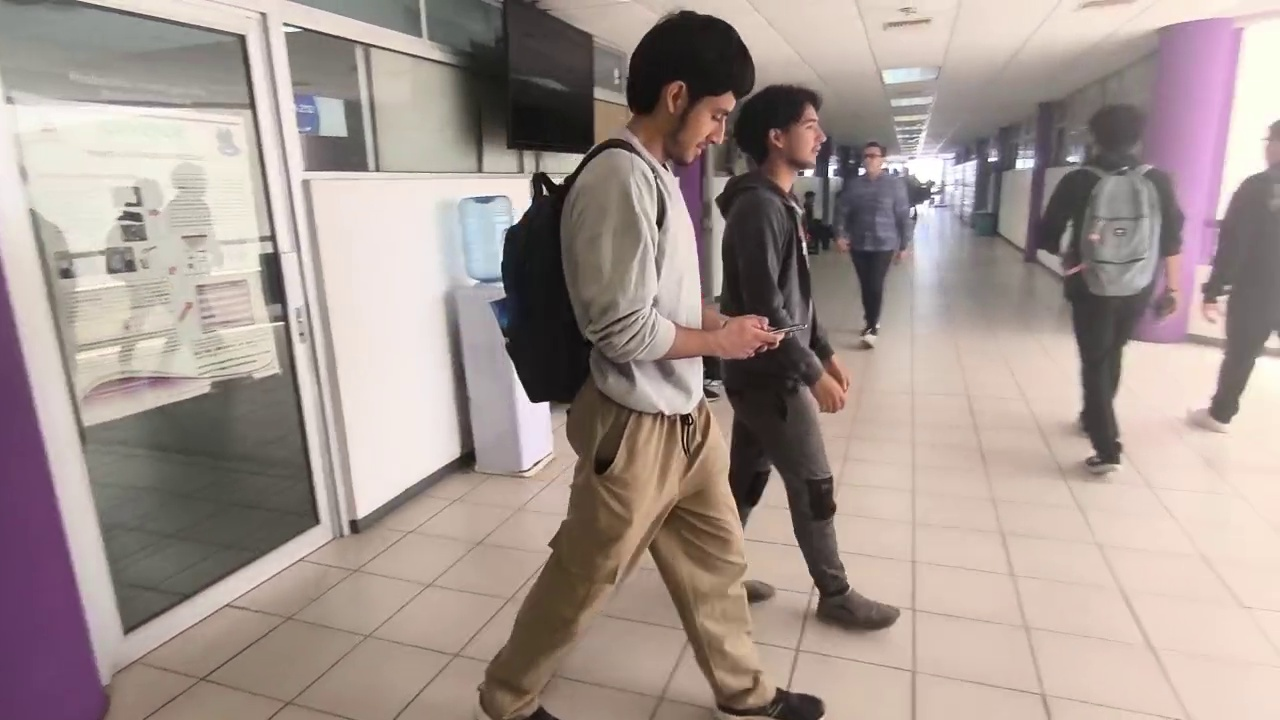mixto2: (759, 314, 811, 341)
